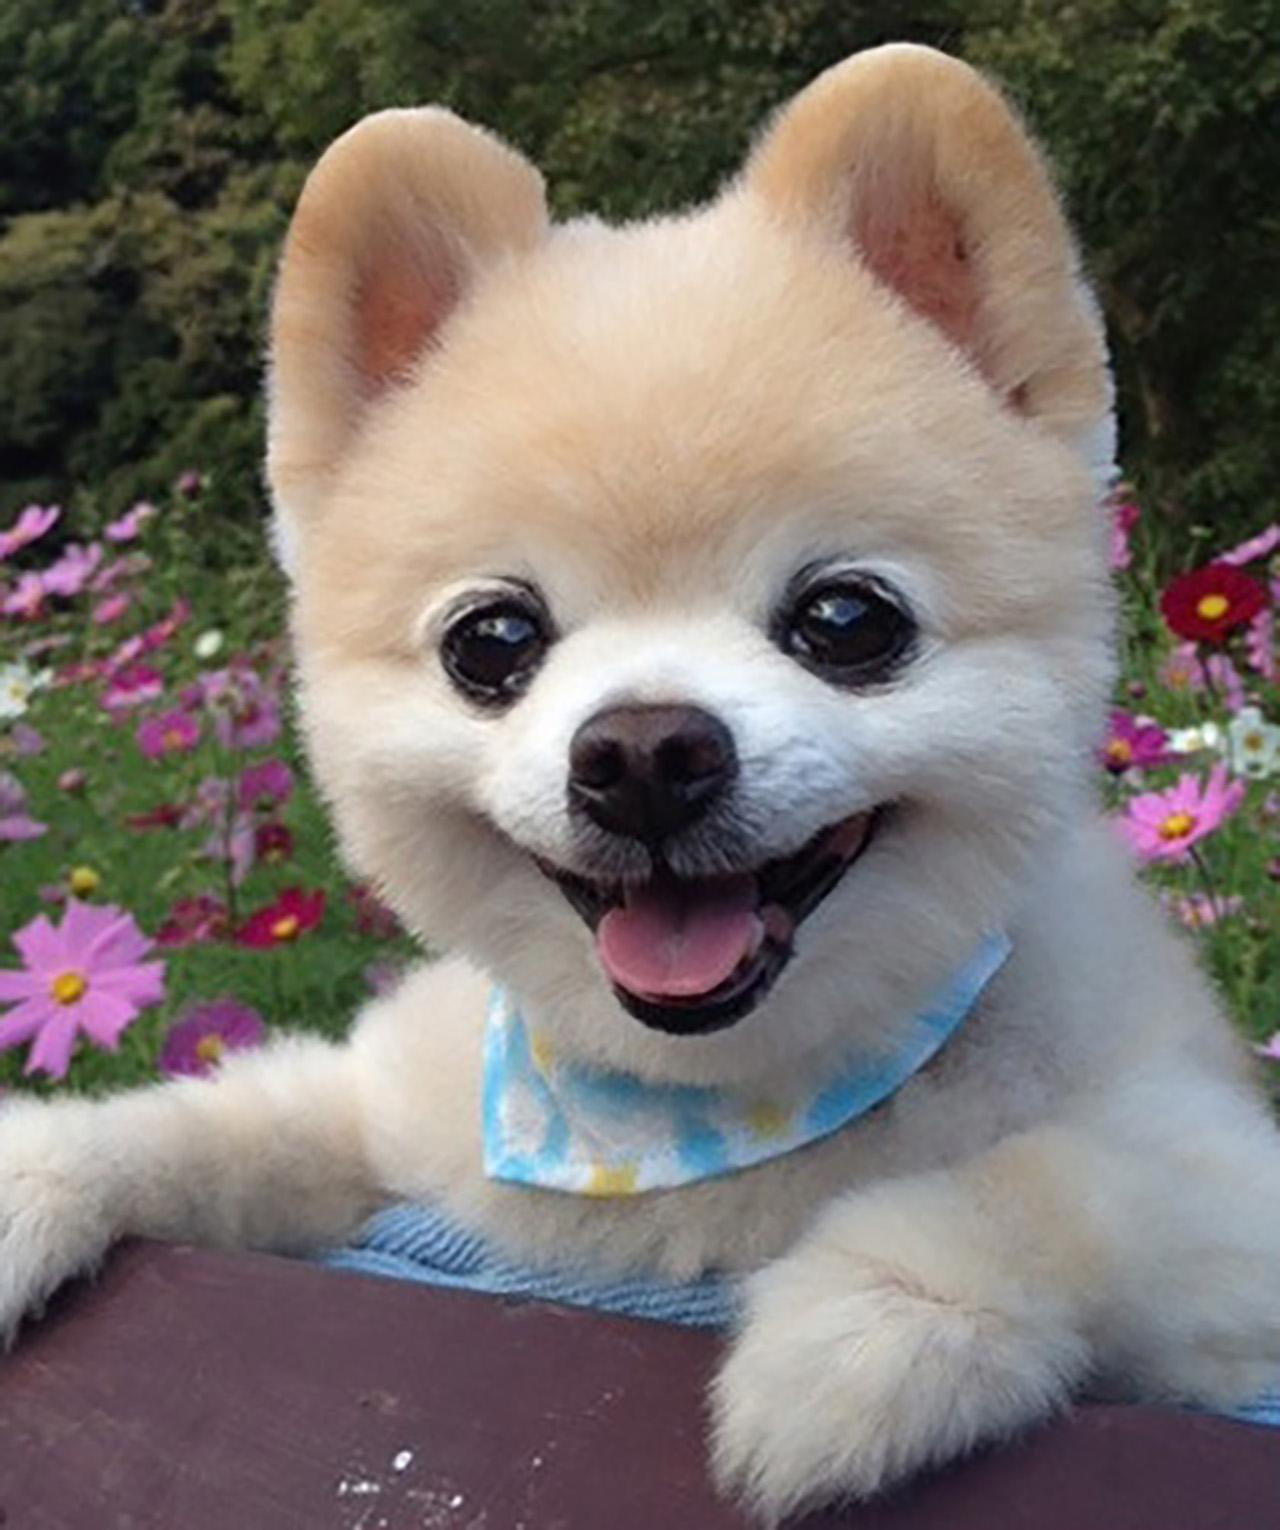dog: (258, 104, 1244, 1414)
